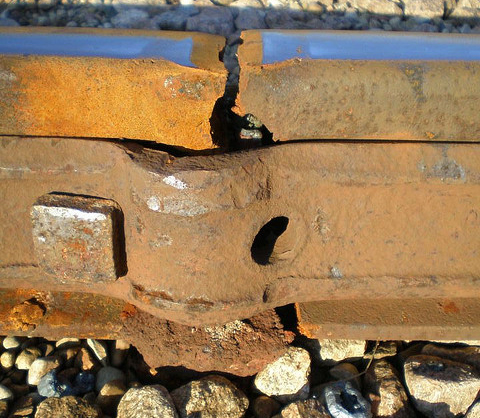duan lie: (190, 13, 290, 162)
